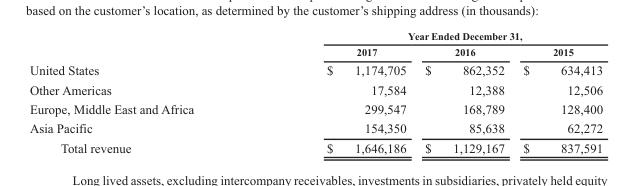table: (28, 29, 602, 154)
table column: (28, 29, 259, 154), (259, 29, 414, 154), (414, 29, 513, 154), (513, 29, 602, 154)
table column header: (28, 29, 602, 60)
table row: (28, 98, 602, 118), (28, 60, 602, 79), (28, 79, 602, 98), (28, 118, 602, 137), (28, 43, 602, 60), (28, 137, 602, 154), (28, 29, 602, 43)
table spanning cell: (259, 29, 602, 43)
